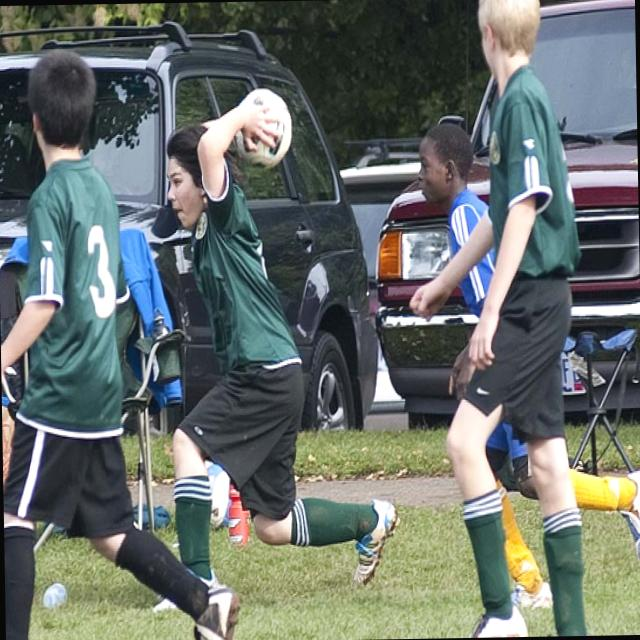Vehicle: (0, 18, 378, 462), (364, 0, 640, 434), (337, 134, 425, 336)
